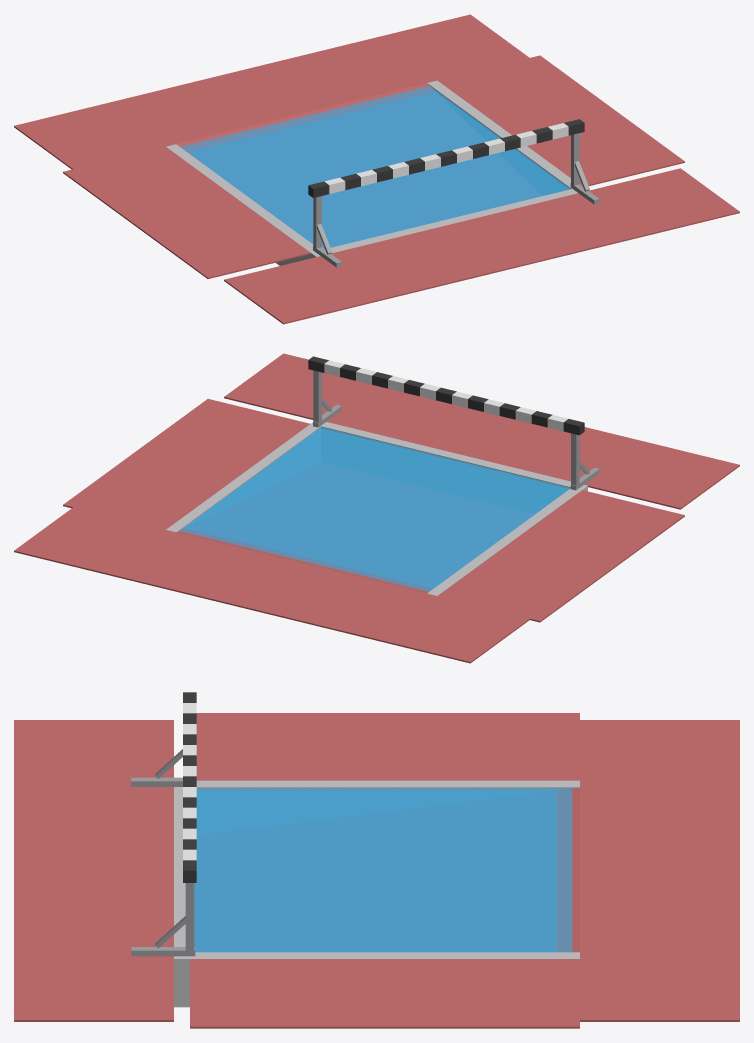
File: Water jump.glb
The picture shows the model from 3 angles, top to bottom: view 1: azimuth 30°, elevation 25°; view 2: azimuth 150°, elevation 25°; view 3: azimuth 270°, elevation 25°; orthographic projection. The views are drawn at different scales.
Parts seen in each view (by area): view 1: Steeple_Water_Body, Steeple_Track_Approach, Steeple_Track_Exit, Steeple_Track_Side_L, Steeple_Track_Side_R, Steeple_Pit_Floor, Steeple_Pit_Wall_L, Steeple_Pit_Wall_Front, Steeple_Pit_Wall_R; view 2: Steeple_Water_Body, Steeple_Track_Exit, Steeple_Track_Approach, Steeple_Track_Side_L, Steeple_Track_Side_R, Steeple_Pit_Wall_Front, Steeple_Pit_Wall_R, Steeple_Pit_Floor, Steeple_Pit_Wall_L; view 3: Steeple_Water_Body, Steeple_Track_Exit, Steeple_Track_Approach, Steeple_Track_Side_R, Steeple_Track_Side_L, Steeple_Pit_Wall_L, Steeple_Pit_Floor, Steeple_Pit_Wall_R, Steeple_Pit_Wall_Front, Steeple_Upright_R, Steeple_Base_R.
Part boxes in pixels (x1,y1,x2,y2): Steeple_Water_Body: (180,86,570,248); Steeple_Track_Approach: (224,168,739,324); Steeple_Track_Exit: (14,14,529,169); Steeple_Track_Side_L: (63,146,310,278); Steeple_Track_Side_R: (437,55,684,186); Steeple_Pit_Floor: (176,83,435,151); Steeple_Pit_Wall_L: (166,144,314,265); Steeple_Pit_Wall_Front: (310,189,577,258); Steeple_Pit_Wall_R: (427,80,572,189); Steeple_Water_Body: (179,427,570,591); Steeple_Track_Exit: (14,507,529,663); Steeple_Track_Approach: (224,353,739,509); Steeple_Track_Side_L: (438,490,684,622); Steeple_Track_Side_R: (63,399,310,529); Steeple_Pit_Wall_Front: (311,422,587,491); Steeple_Pit_Wall_R: (166,424,320,532); Steeple_Pit_Floor: (176,528,433,593); Steeple_Pit_Wall_L: (427,488,581,595); Steeple_Water_Body: (194,788,572,952); Steeple_Track_Exit: (580,720,739,1021); Steeple_Track_Approach: (14,720,173,1021); Steeple_Track_Side_R: (190,959,579,1028); Steeple_Track_Side_L: (196,713,579,780); Steeple_Pit_Wall_L: (196,780,579,790); Steeple_Pit_Floor: (556,787,579,952); Steeple_Pit_Wall_R: (190,952,579,958); Steeple_Pit_Wall_Front: (174,787,189,1007); Steeple_Upright_R: (185,883,194,950); Steeple_Base_R: (131,947,195,956).
Size of the model in its own units: 6.96 by 1.46 by 6.81.
